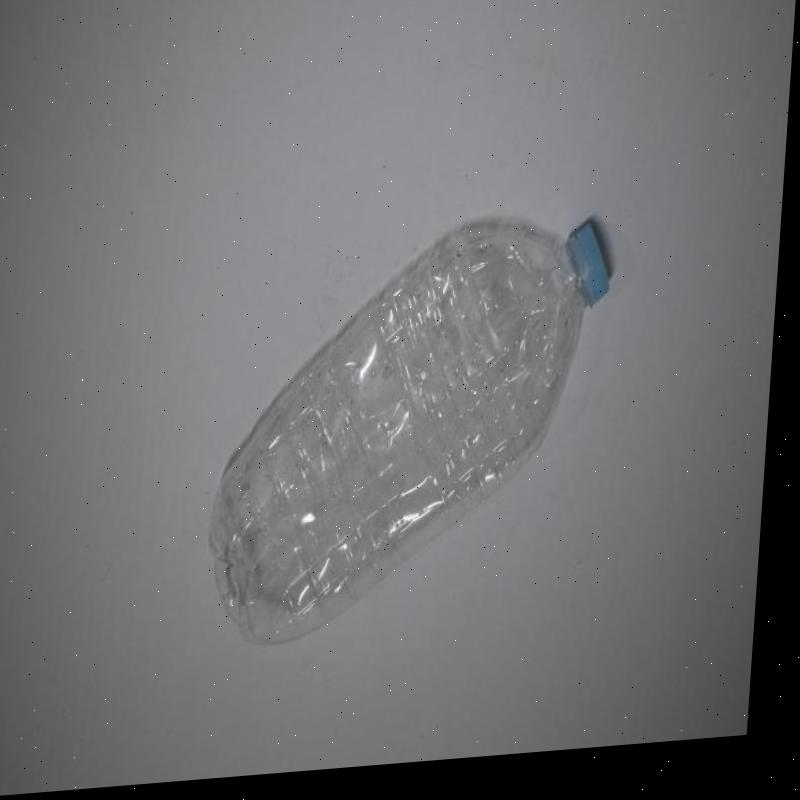botella: (210, 220, 617, 656)
